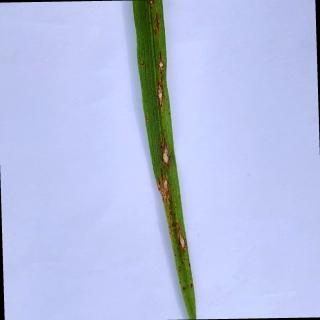Blast: (156, 75, 166, 108), (162, 138, 172, 167), (161, 177, 171, 201), (178, 224, 186, 252), (158, 52, 165, 74), (155, 13, 160, 32), (154, 28, 158, 36), (148, 0, 154, 4)
